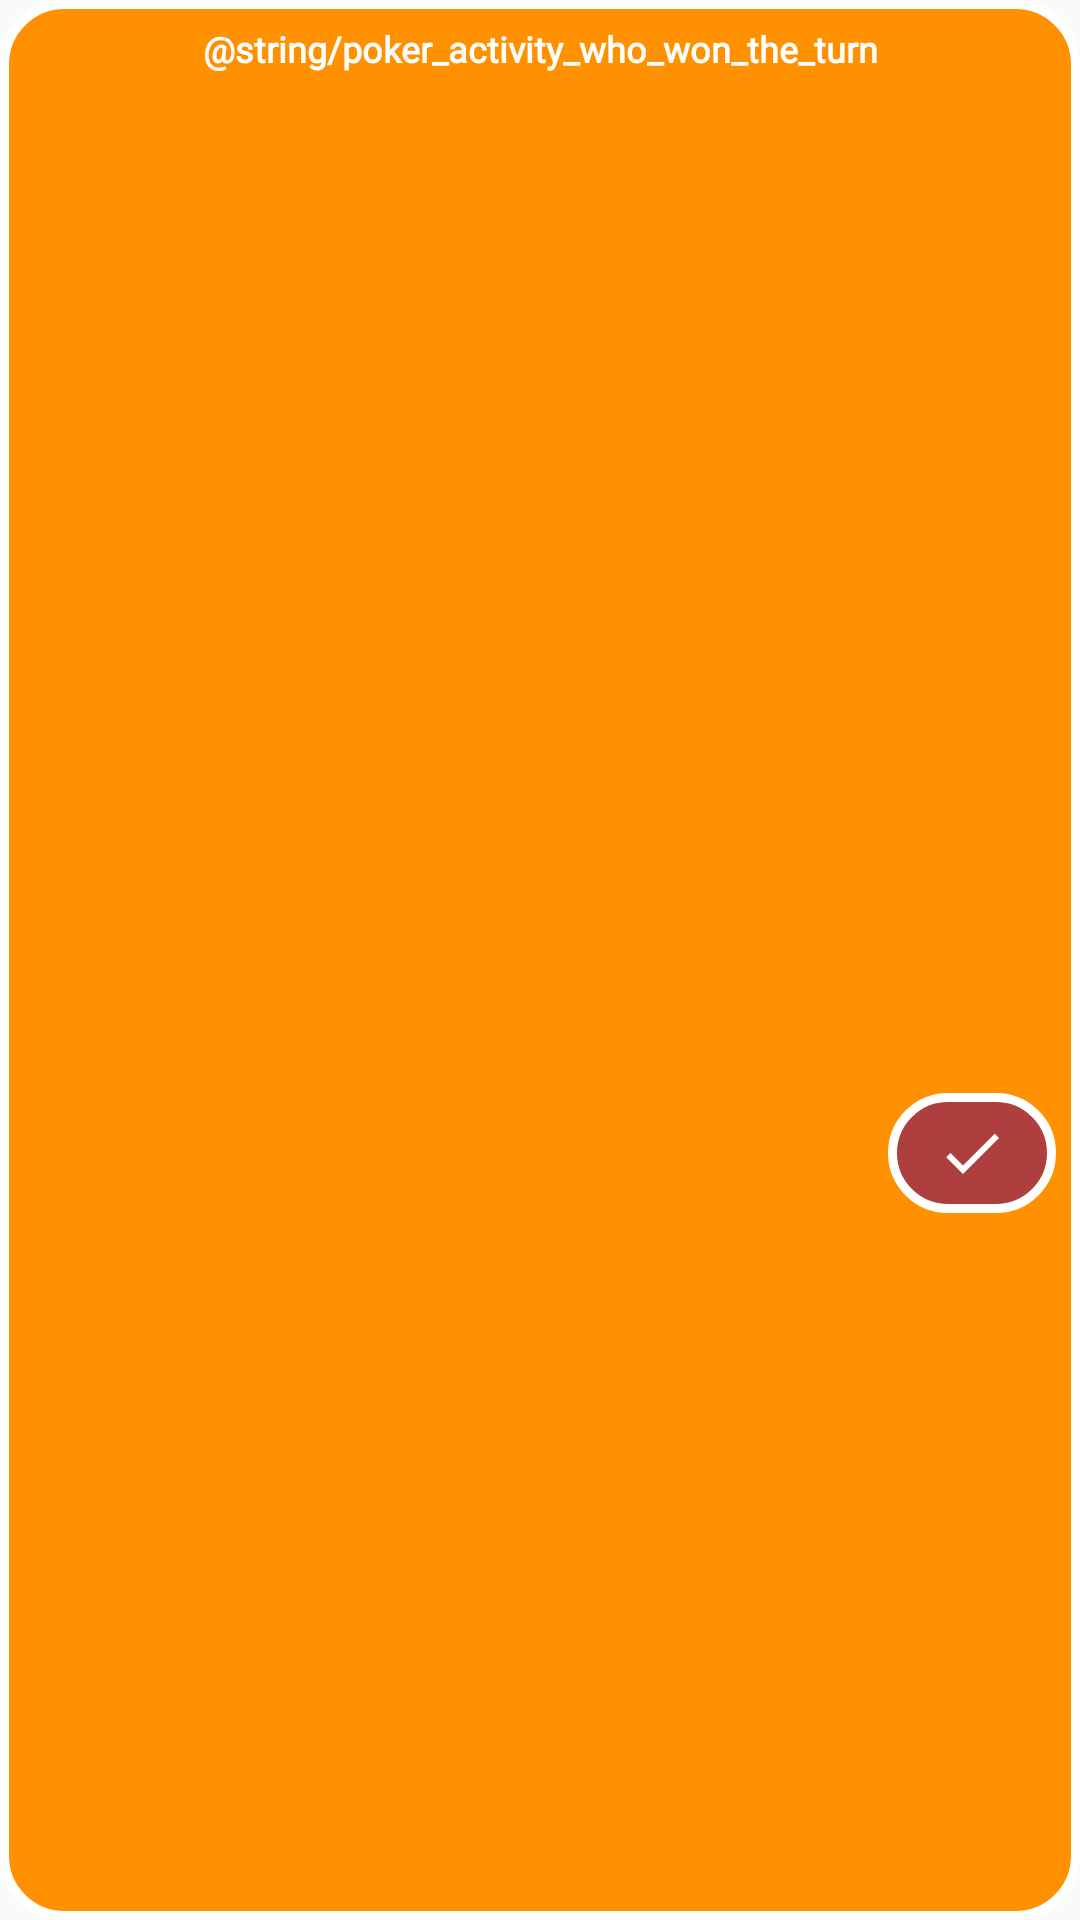

Icons on this 1080 x 1920 Android screen, each with its box as [x1=x1, y1=y1, x2=x2, y2=y2]:
check: [x1=888, y1=1093, x2=1056, y2=1213]
